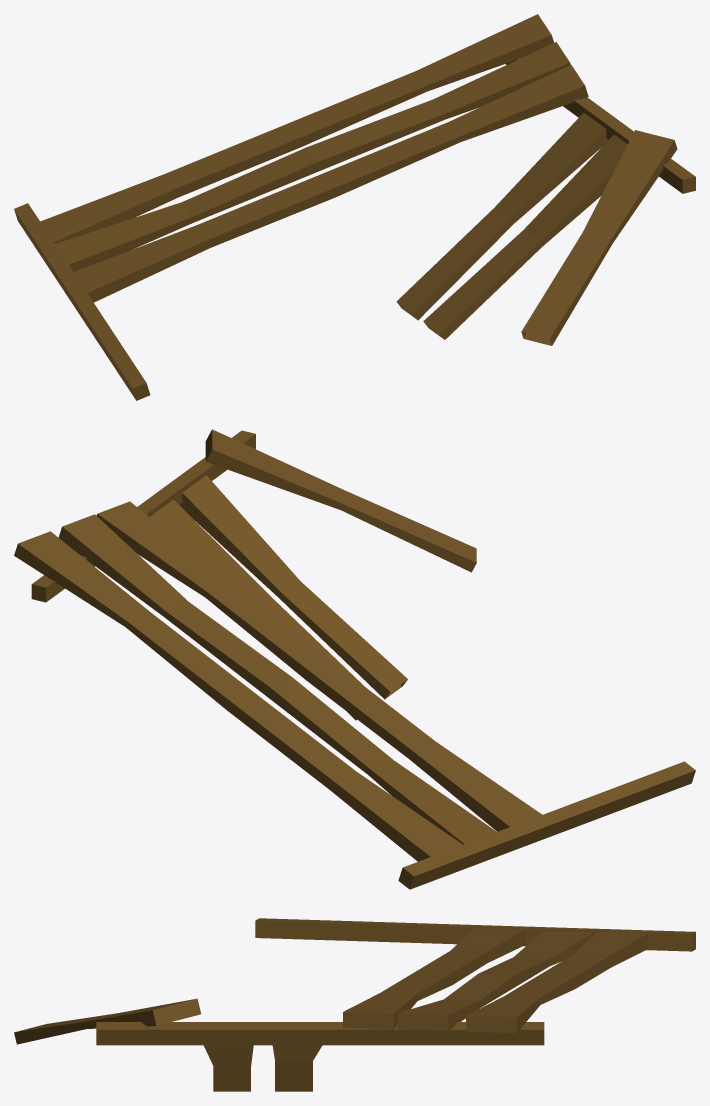
File: BridgeElement2.fbx
3 views of the same model, one above another, from view 1: azimuth 30°, elevation 25°; view 2: azimuth 150°, elevation 25°; view 3: azimuth 270°, elevation 25° (orthographic). The views are drawn at different scales.
Parts seen in each view (by area): view 1: BridgeObject; view 2: BridgeObject; view 3: BridgeObject.
Part boxes in pixels (x1,y1,x2,y2): BridgeObject: (14,14,695,400); BridgeObject: (14,429,695,889); BridgeObject: (14,918,695,1091).
Size of the model in its own units: 1100 by 362 by 1085.
